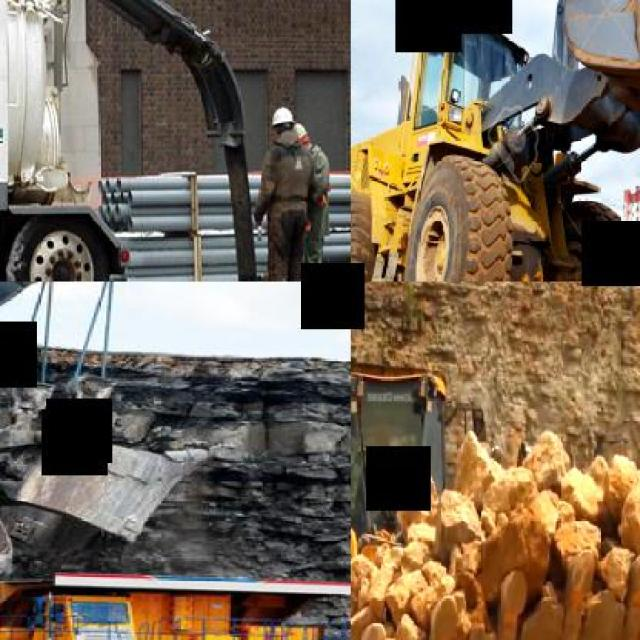buldozerpayloadergrader: (351, 354, 638, 638), (351, 0, 638, 280)
dump_truck: (0, 560, 349, 638)
